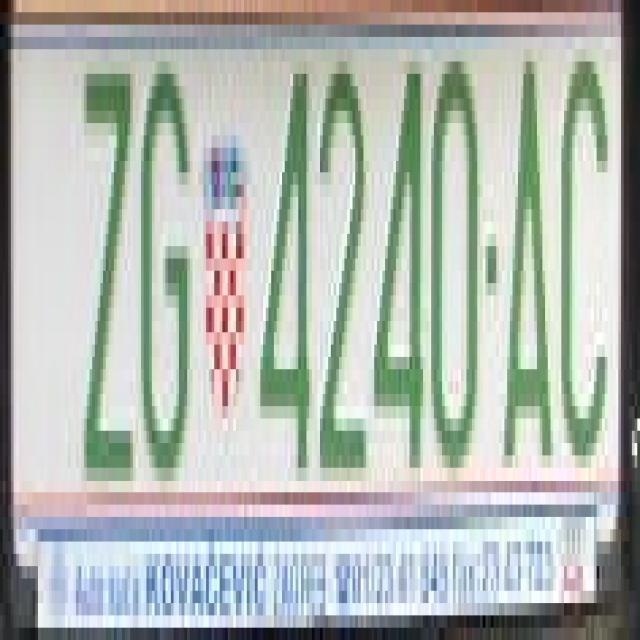0: (431, 49, 480, 456)
2: (317, 73, 366, 456)
4: (369, 49, 423, 456), (263, 37, 309, 492)
A: (502, 37, 554, 456)
C: (556, 49, 613, 480)
G: (141, 86, 190, 480)
Z: (78, 61, 136, 468)
